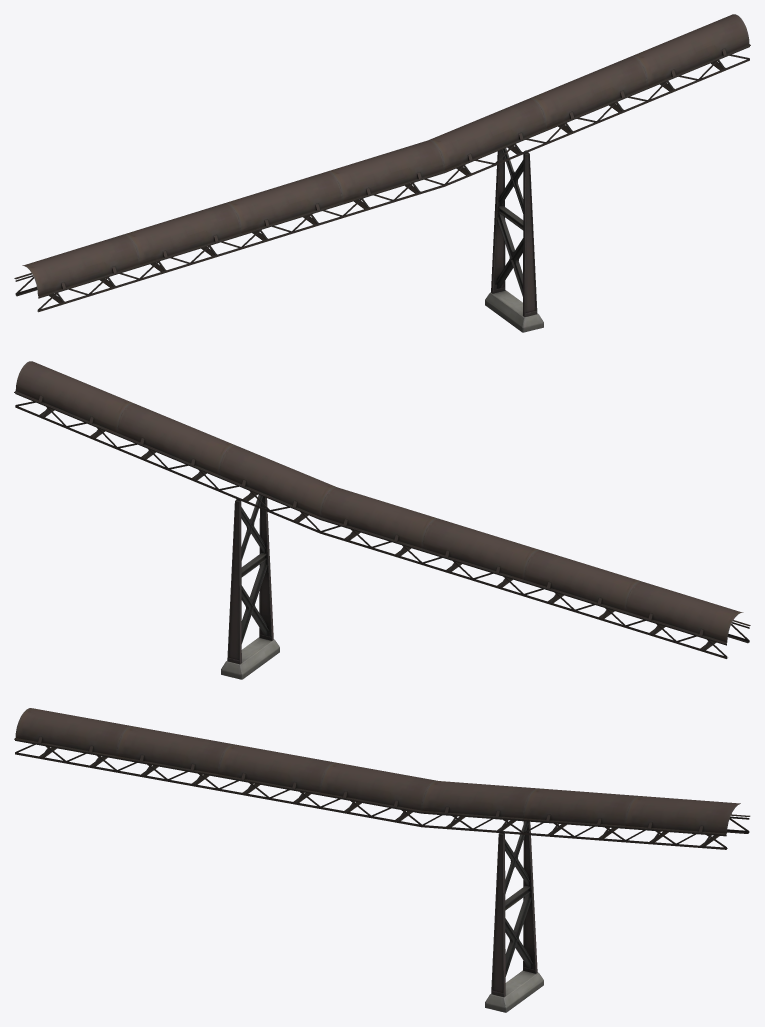
3 renders of one model, top to bottom at view 1: azimuth 30°, elevation 25°; view 2: azimuth 150°, elevation 25°; view 3: azimuth 330°, elevation 25°, orthographic.
Visible parts, largest first — view 1: body0_model0_lod0_mesh1, body0_model0_lod0_mesh0; view 2: body0_model0_lod0_mesh1, body0_model0_lod0_mesh0; view 3: body0_model0_lod0_mesh1, body0_model0_lod0_mesh0.
Part boxes in pixels (bbox=[...]): body0_model0_lod0_mesh1: bbox=[14, 14, 750, 312]; body0_model0_lod0_mesh0: bbox=[485, 148, 543, 332]; body0_model0_lod0_mesh1: bbox=[14, 361, 750, 658]; body0_model0_lod0_mesh0: bbox=[221, 495, 279, 679]; body0_model0_lod0_mesh1: bbox=[14, 708, 750, 849]; body0_model0_lod0_mesh0: bbox=[485, 821, 543, 1012].
Size of the model in its own units: 1792 by 592 by 167.
Materials: 2 (2 with a texture image).
